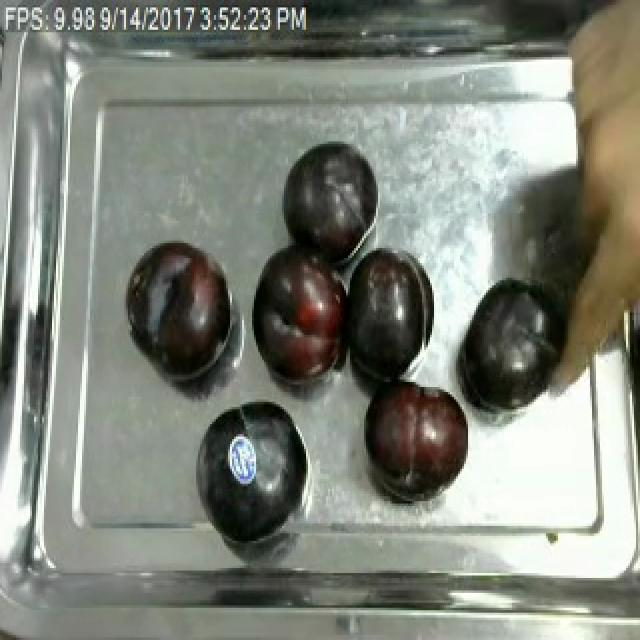Fruit: (194, 394, 312, 546), (244, 231, 352, 392), (452, 270, 564, 420), (354, 370, 476, 501), (338, 240, 440, 390), (132, 236, 234, 382), (278, 139, 382, 265)
